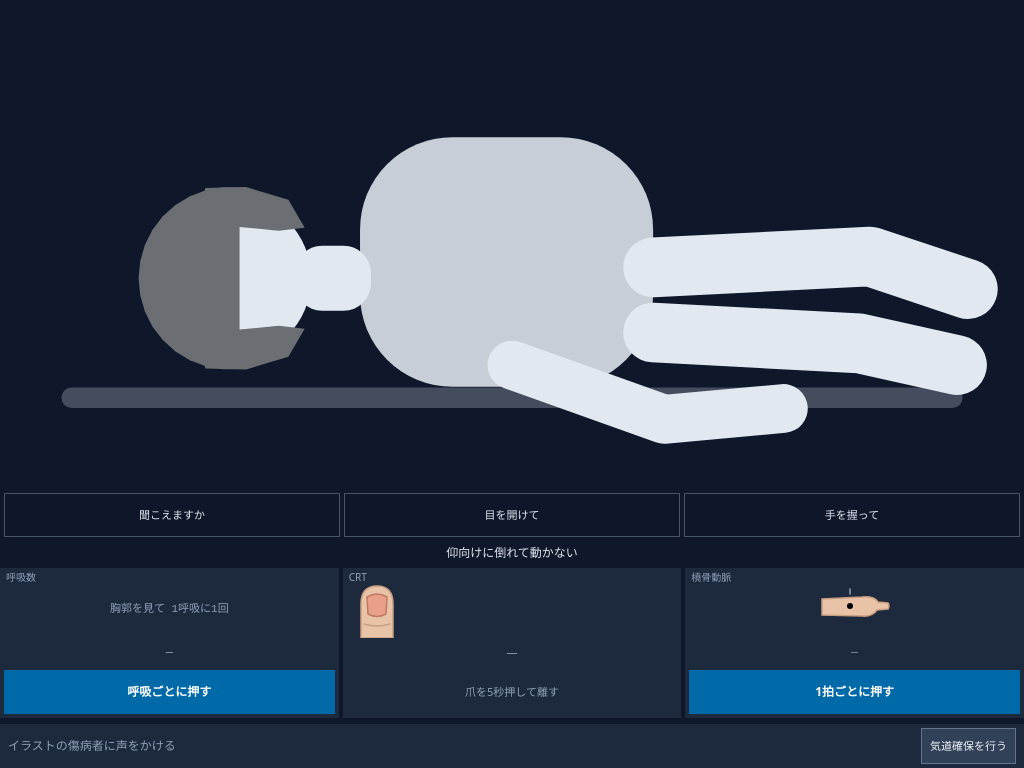
it: 気道確保ボタンが答えを漏らさない（docs/OBSERVATION.md §3.1） › 気道確保により呼吸が再開する症例は再開を返す
The image size is (1024, 768).
(page scrolled)
Click the button "気道確保を行う" at (968, 746), box [921,728,1016,764]
(page scrolled)
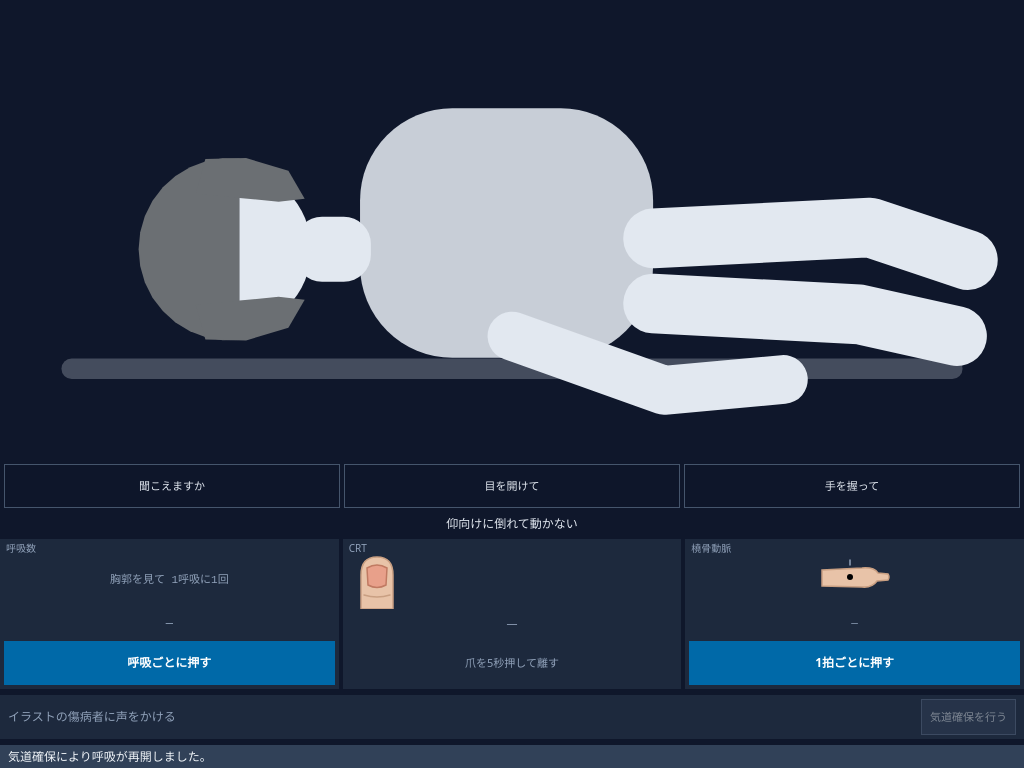
Expected: the text "気道確保により呼吸が再開しました。" is shown, [0,745,1023,767]
